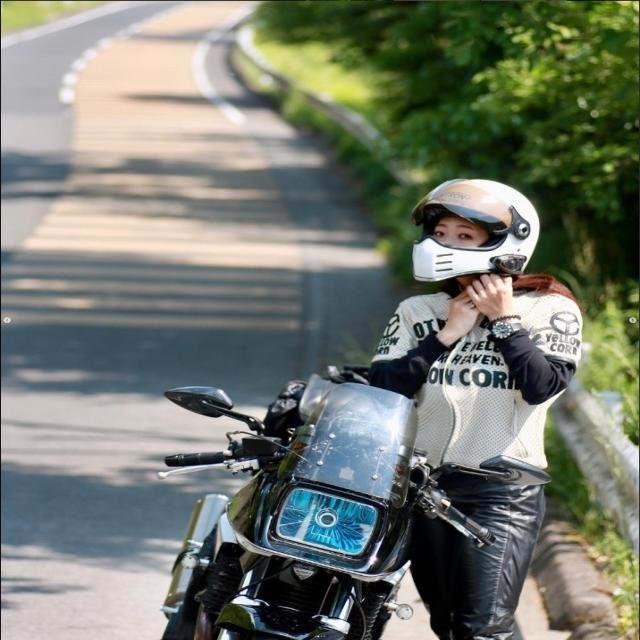helmet: (406, 176, 544, 287)
